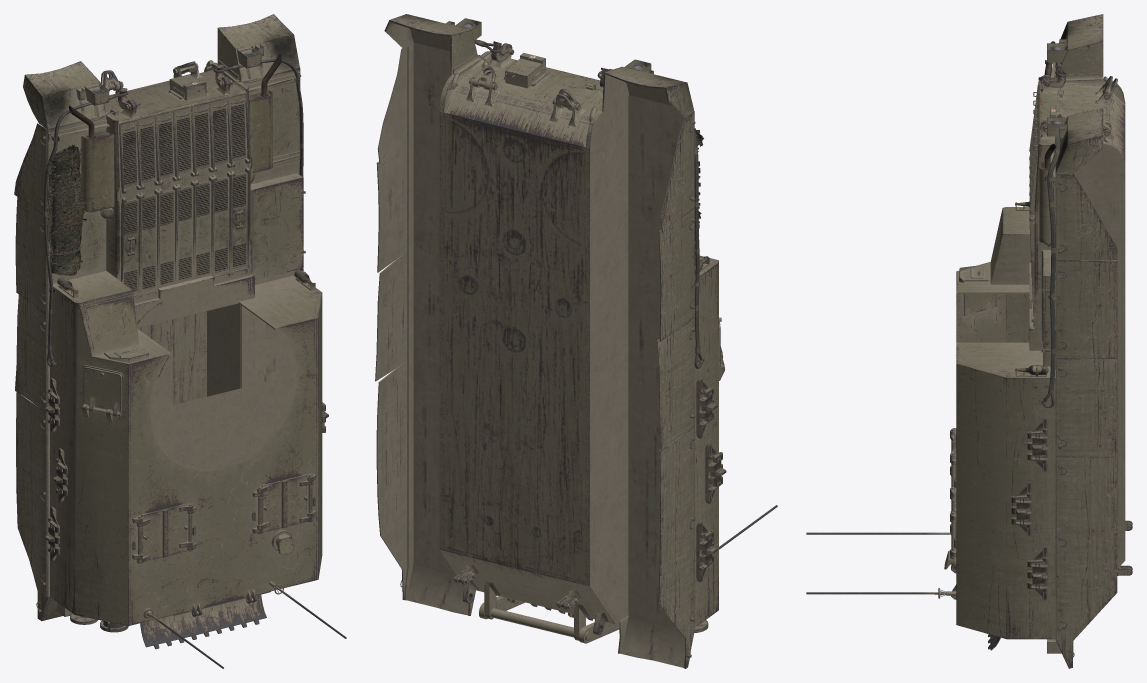
File: Hull.glb
3 views of the same model, side by side, from view 1: azimuth 30°, elevation 25°; view 2: azimuth 150°, elevation 25°; view 3: azimuth 270°, elevation 25° (orthographic). The views are drawn at different scales.
Parts seen in each view (by area): view 1: set_0_group_0, set_0_group_1; view 2: set_0_group_0, set_0_group_1; view 3: set_0_group_0, set_0_group_1.
Part boxes in pixels (x1,y1,x2,y2): set_0_group_0: (14,14,346,668); set_0_group_1: (43,59,328,632); set_0_group_0: (375,14,777,668); set_0_group_1: (474,39,726,632); set_0_group_0: (806,14,1132,668); set_0_group_1: (1011,62,1066,600).
Bounding box in the file's own units: 4.33 × 8.37 × 4.51.
2 materials, 2 textured.
